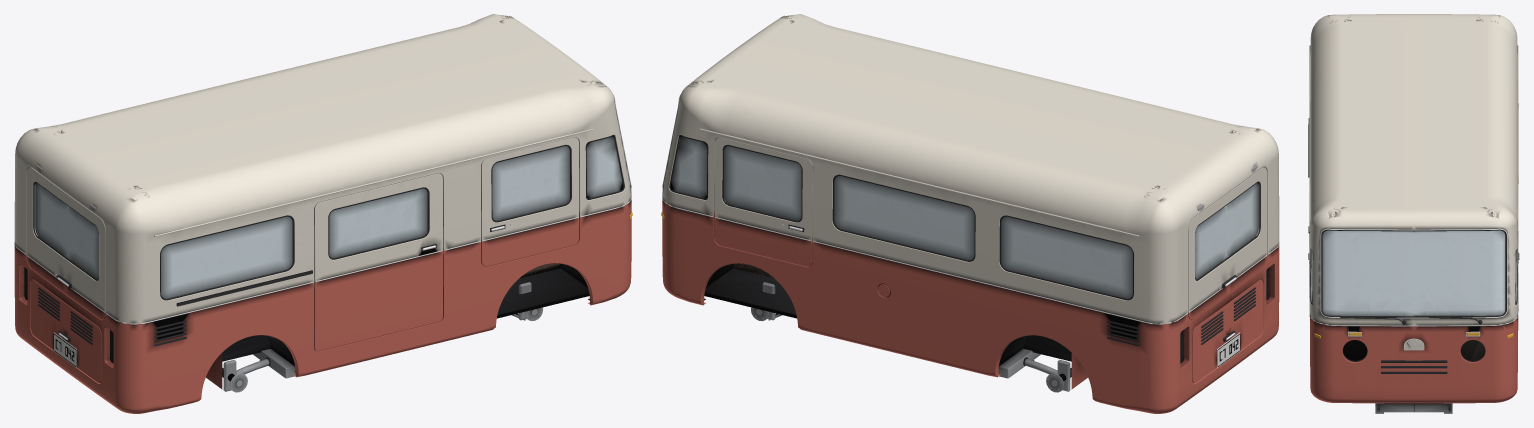
Rendered from van.glb.
3 views of the same model, side by side, from view 1: azimuth 30°, elevation 25°; view 2: azimuth 150°, elevation 25°; view 3: azimuth 270°, elevation 25° (orthographic). The views are drawn at different scales.
Parts seen in each view (by area): view 1: BODY, P_door_side, GLASS, P_door_FR, P_trunk, PG_door_side, PG_door_FR, P_hood, PG_trunk, INTERIOR, UNDER, KNUCKLE_hub_RR; view 2: BODY, GLASS, P_door_FL, P_trunk, PG_door_FL, P_hood, PG_trunk, INTERIOR, UNDER, KNUCKLE_hub_RL; view 3: BODY, GLASS, INTERIOR, UNDER, WIPER_L.
Boxes of the visible parts, box(x1,y1,x2,y2) form: BODY: box(14, 14, 632, 413); P_door_side: box(314, 173, 443, 350); GLASS: box(161, 136, 623, 298); P_door_FR: box(481, 137, 579, 266); P_trunk: box(26, 167, 105, 319); PG_door_side: box(329, 188, 427, 258); PG_door_FR: box(492, 146, 569, 220); P_hood: box(30, 279, 101, 382); PG_trunk: box(35, 183, 98, 279); INTERIOR: box(23, 263, 589, 372); UNDER: box(222, 263, 587, 378); KNUCKLE_hub_RR: box(223, 359, 247, 392); BODY: box(661, 14, 1279, 413); GLASS: box(670, 136, 1132, 298); P_door_FL: box(714, 137, 812, 266); P_trunk: box(1188, 167, 1267, 319); PG_door_FL: box(724, 146, 801, 220); P_hood: box(1192, 279, 1263, 382); PG_trunk: box(1195, 183, 1258, 279); INTERIOR: box(704, 263, 1270, 372); UNDER: box(706, 263, 1071, 378); KNUCKLE_hub_RL: box(1046, 359, 1070, 392); BODY: box(1308, 14, 1518, 403); GLASS: box(1311, 230, 1516, 316); INTERIOR: box(1343, 340, 1485, 360); UNDER: box(1375, 403, 1452, 413); WIPER_L: box(1415, 315, 1482, 324).
Size of the model in its own units: 4.28 by 1.76 by 1.73.
